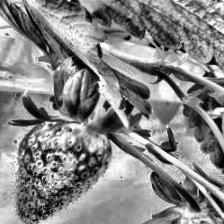Powdery Mildew Fruit: (14, 120, 112, 224)
